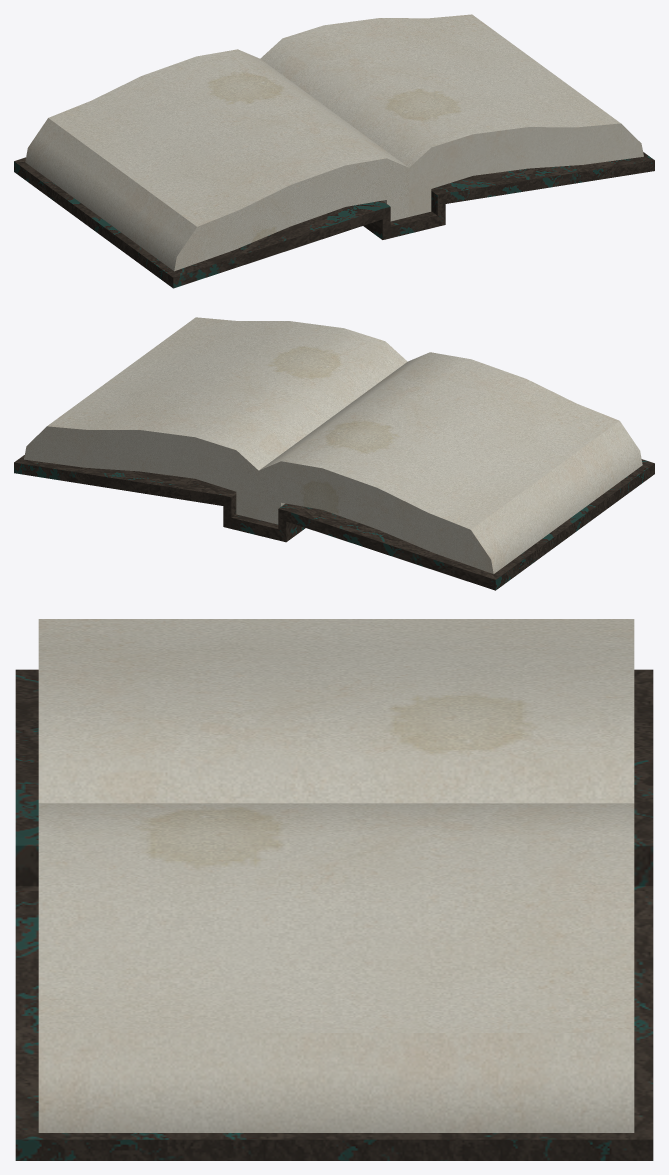
Rendered from openBook2.fbx.
The picture shows the model from 3 angles, top to bottom: view 1: azimuth 30°, elevation 25°; view 2: azimuth 150°, elevation 25°; view 3: azimuth 270°, elevation 25°; orthographic projection. The views are drawn at different scales.
Parts seen in each view (by area): view 1: group6_pCube58; view 2: group6_pCube58; view 3: group6_pCube58.
Boxes of the visible parts, <box> form: group6_pCube58: <box>14,14,654,288</box>; group6_pCube58: <box>14,317,654,590</box>; group6_pCube58: <box>15,619,653,1160</box>.
Size of the model in its own units: 0.4842 by 0.0752 by 0.2774.
